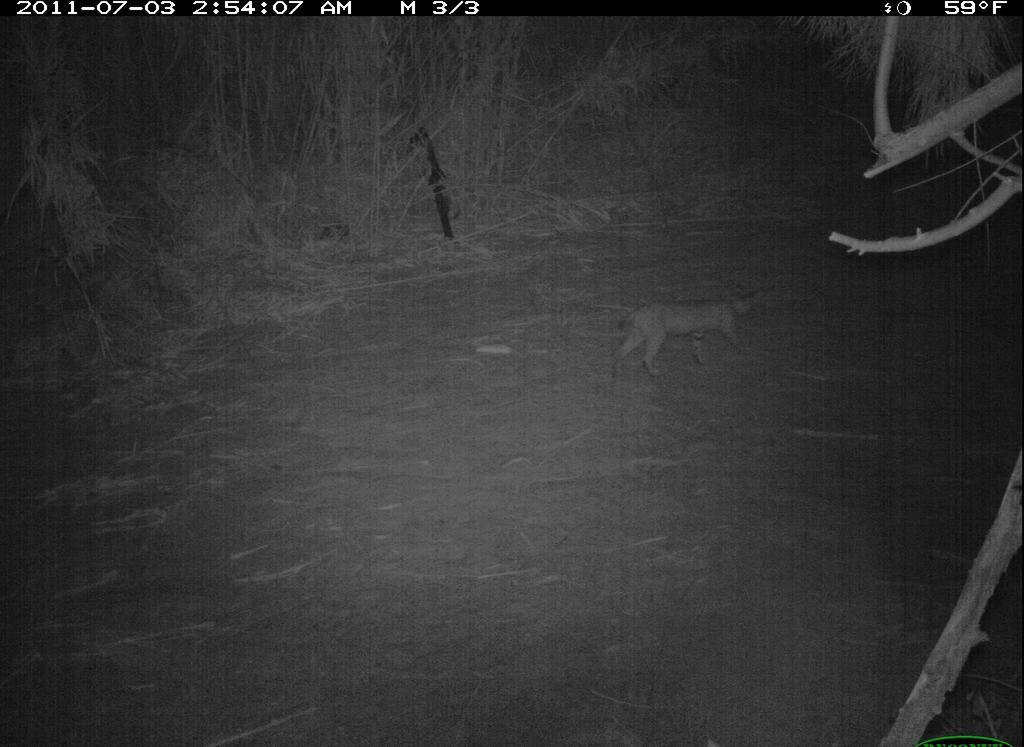bobcat: (606, 283, 772, 377)
